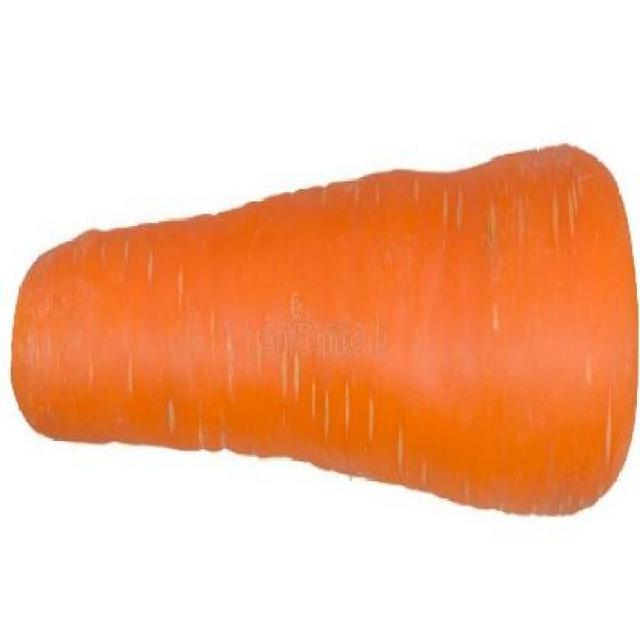carrot: (5, 130, 640, 541)
